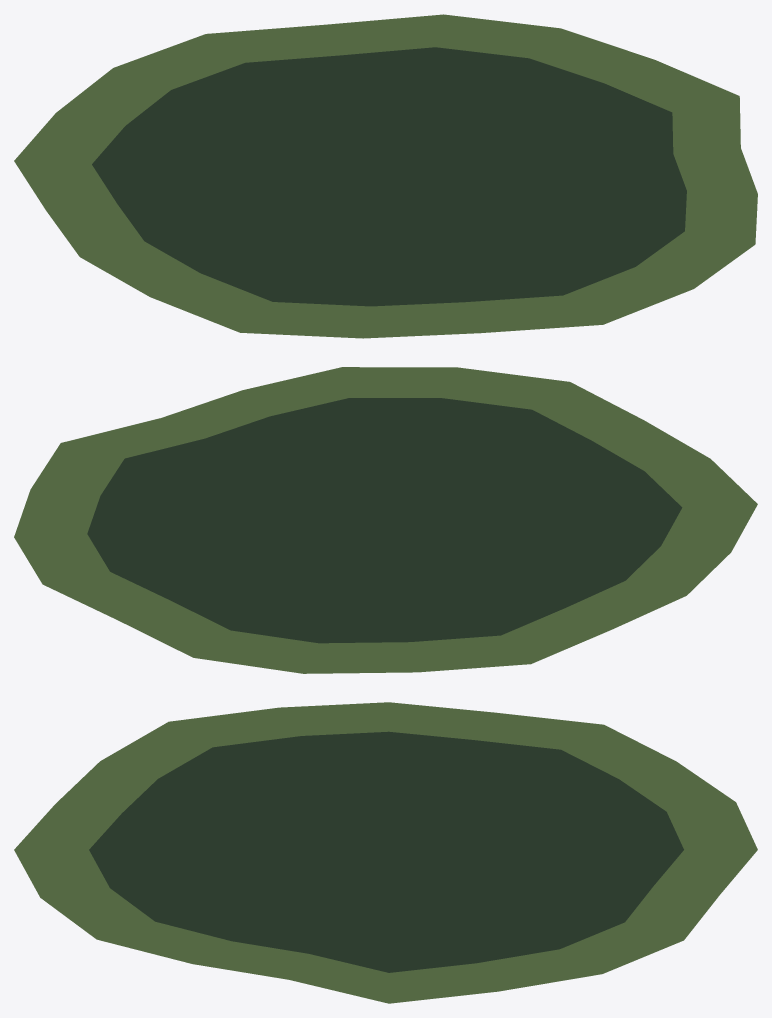
The model's file is cave_pool.glb.
3 views of the same model, one above another, from view 1: azimuth 30°, elevation 25°; view 2: azimuth 150°, elevation 25°; view 3: azimuth 270°, elevation 25° (orthographic). The views are drawn at different scales.
Visible parts, largest first — view 1: cave_pool; view 2: cave_pool; view 3: cave_pool.
Boxes of the visible parts, x1,y1,x2,y2 form: cave_pool: (14,14,757,338); cave_pool: (14,367,757,673); cave_pool: (14,702,757,1003).
Bounding box in the file's own units: 1.9 × 0 × 1.98.
1 material, 1 textured.
